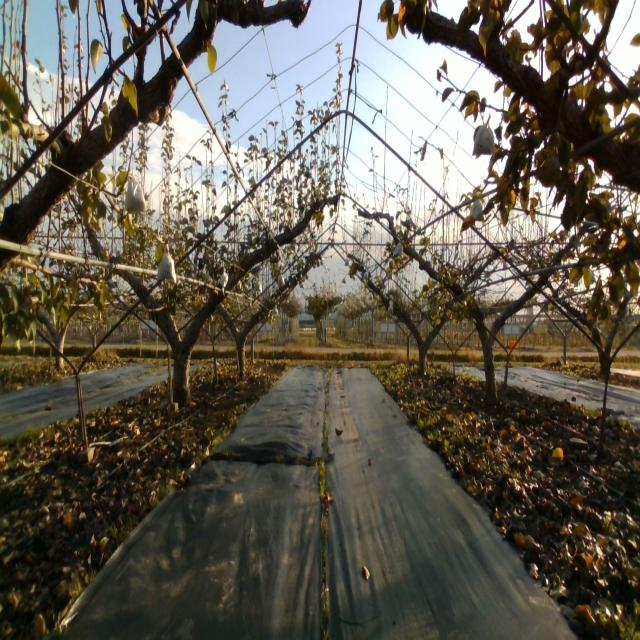pearbags: (122, 172, 146, 215), (472, 114, 496, 157), (158, 244, 176, 283), (468, 198, 484, 220)
